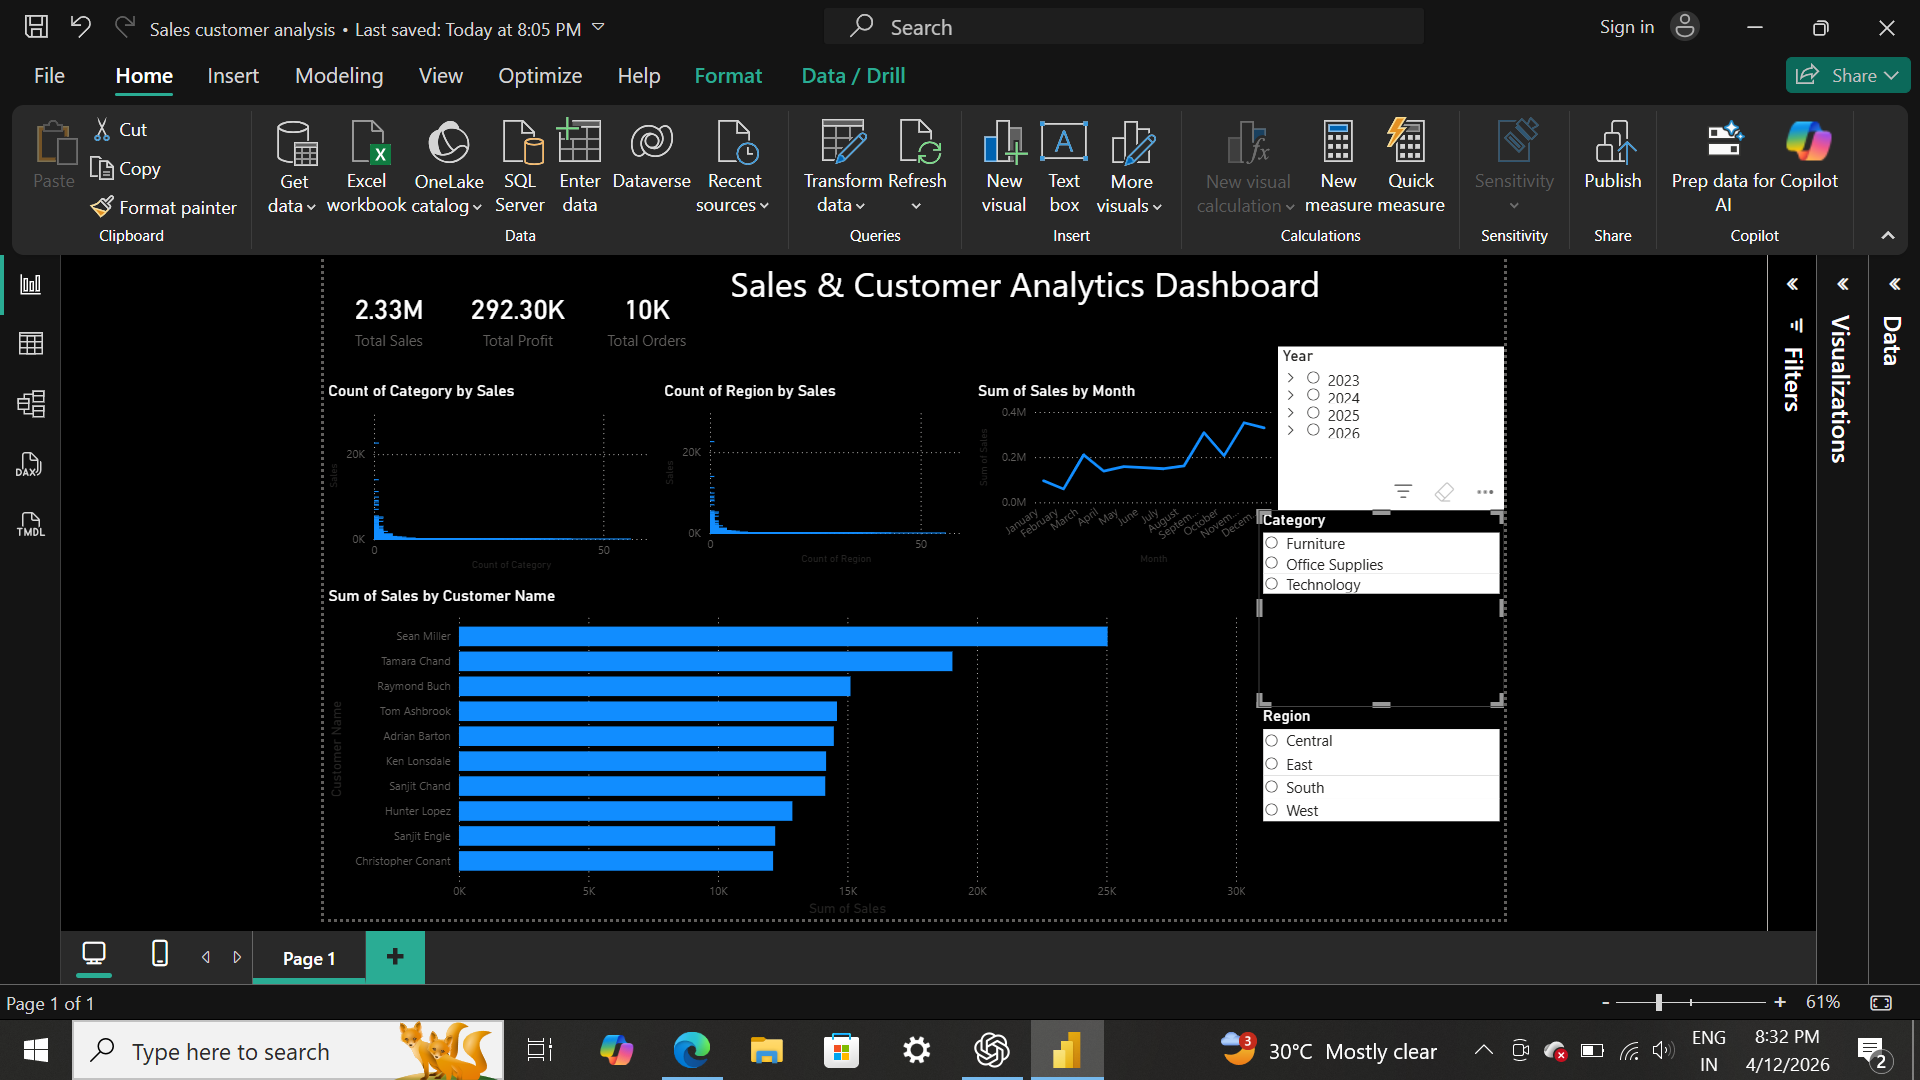

What the dashboard file says about the page in this screenshot:
{"tool":"powerbi","page":{"name":"Page 1","canvas":[1280,720],"ordinal":0},"visuals":[{"type":"card","fields":{"Values":["samplesuperstore.Total Profit"]},"box":[139.8,0,139.8,136.1],"z":0},{"type":"card","fields":{"Values":["samplesuperstore.Total Sales"]},"box":[0,0,139.8,136.1],"z":1000},{"type":"card","fields":{"Values":["samplesuperstore.Total Orders"]},"box":[279.7,0,139.8,136.1],"z":2000},{"type":"clusteredBarChart","fields":{"Y":["CountNonNull(samplesuperstore.Category)"],"Category":["samplesuperstore.Sales"]},"box":[0,136.6,364.3,209.8],"z":3000},{"type":"clusteredBarChart","fields":{"Y":["CountNonNull(samplesuperstore.Region)"],"Category":["samplesuperstore.Sales"]},"box":[364.3,136.6,339.9,203.3],"z":4000},{"type":"lineChart","fields":{"Y":["Sum(samplesuperstore.Sales)"],"Category":["samplesuperstore.Date.Variation.Date Hierarchy.Month"]},"box":[704.3,136.6,328.6,203.3],"z":4001},{"type":"clusteredBarChart","fields":{"Category":["samplesuperstore.Customer Name"],"Y":["Sum(samplesuperstore.Sales)"]},"box":[0,359.5,1003.6,361.1],"z":4002},{"type":"listSlicer","fields":{"Values":["samplesuperstore.Region"]},"box":[1013.3,489.6,266.8,231],"z":4003},{"type":"listSlicer","fields":{"Values":["samplesuperstore.Category"]},"box":[1013.3,276.5,266.8,213.1],"z":4004},{"type":"textbox","box":[435.9,0,743.3,99.2],"z":4006},{"type":"listSlicer","fields":{"Values":["samplesuperstore.Date.Variation.Date Hierarchy.Year","samplesuperstore.Date.Variation.Date Hierarchy.Quarter","samplesuperstore.Date.Variation.Date Hierarchy.Month","samplesuperstore.Date.Variation.Date Hierarchy.Day"]},"box":[1033.9,99.7,245.5,188],"z":4007}]}

Visuals, with their boxes on the page's 1280x720 design canvas (x1, y1, x2, y2). These are canvas units, not pixel positions in the 1920x1080 screenshot, which may show the page scaled, cropped or inside an application window:
card - samplesuperstore.Total Profit: (x1=140, y1=0, x2=280, y2=136)
card - samplesuperstore.Total Sales: (x1=0, y1=0, x2=140, y2=136)
card - samplesuperstore.Total Orders: (x1=280, y1=0, x2=420, y2=136)
clusteredBarChart - CountNonNull(samplesuperstore.Category) x samplesuperstore.Sales: (x1=0, y1=137, x2=364, y2=346)
clusteredBarChart - CountNonNull(samplesuperstore.Region) x samplesuperstore.Sales: (x1=364, y1=137, x2=704, y2=340)
lineChart - Sum(samplesuperstore.Sales) x samplesuperstore.Date.Variation.Date Hierarchy.Month: (x1=704, y1=137, x2=1033, y2=340)
clusteredBarChart - samplesuperstore.Customer Name x Sum(samplesuperstore.Sales): (x1=0, y1=360, x2=1004, y2=721)
listSlicer - samplesuperstore.Region: (x1=1013, y1=490, x2=1280, y2=721)
listSlicer - samplesuperstore.Category: (x1=1013, y1=276, x2=1280, y2=490)
textbox: (x1=436, y1=0, x2=1179, y2=99)
listSlicer - samplesuperstore.Date.Variation.Date Hierarchy.Year x samplesuperstore.Date.Variation.Date Hierarchy.Quarter: (x1=1034, y1=100, x2=1279, y2=288)
